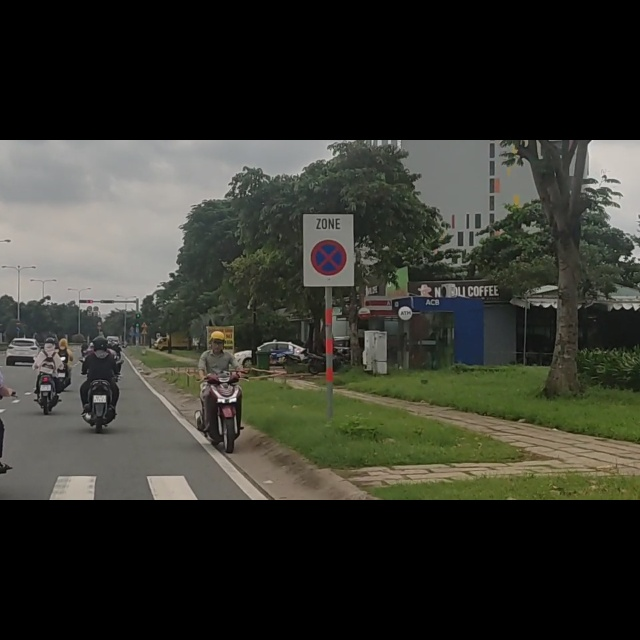bien_cam: (311, 177, 347, 242), (15, 320, 21, 331), (15, 331, 21, 340)
